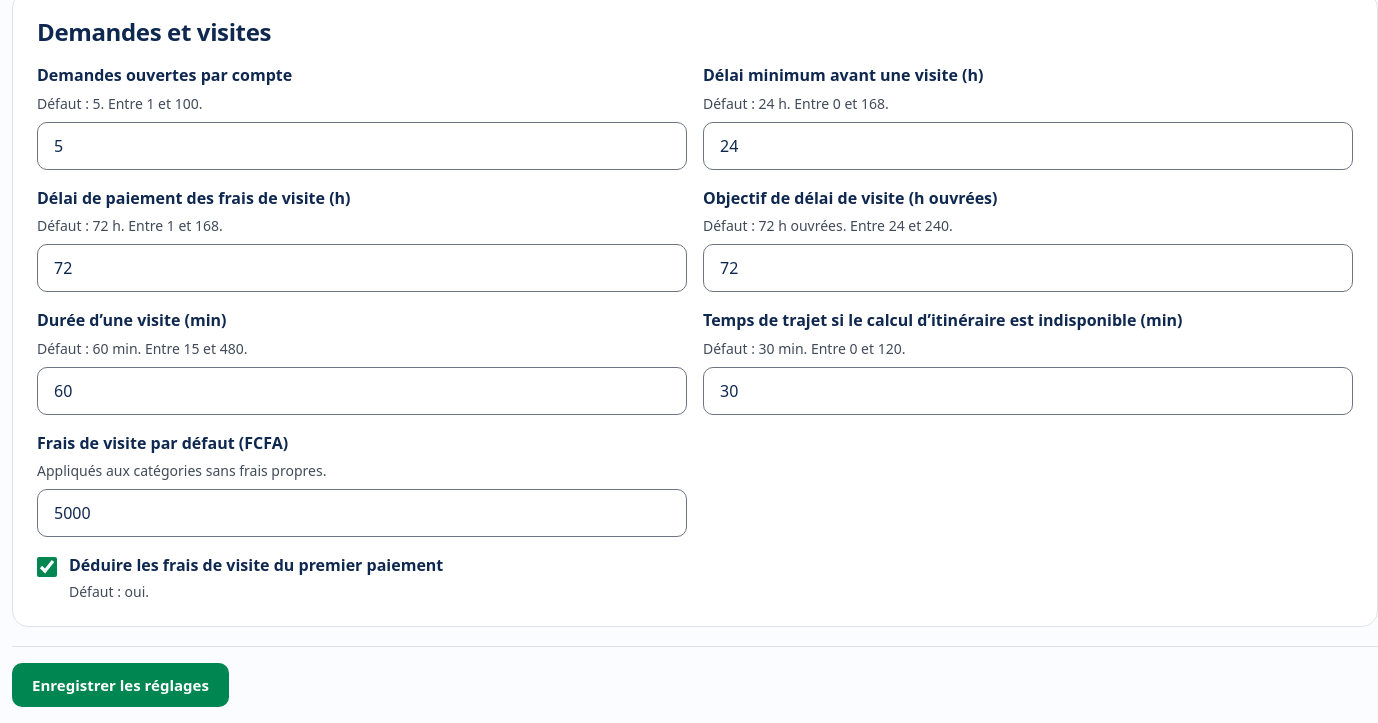
Test case: réglages du module › envoie seulement les réglages modifiés ; refus croisé du serveur affiché
Click the button "Enregistrer les réglages": (120, 685) 12,663 -> 229,707
(page scrolled)
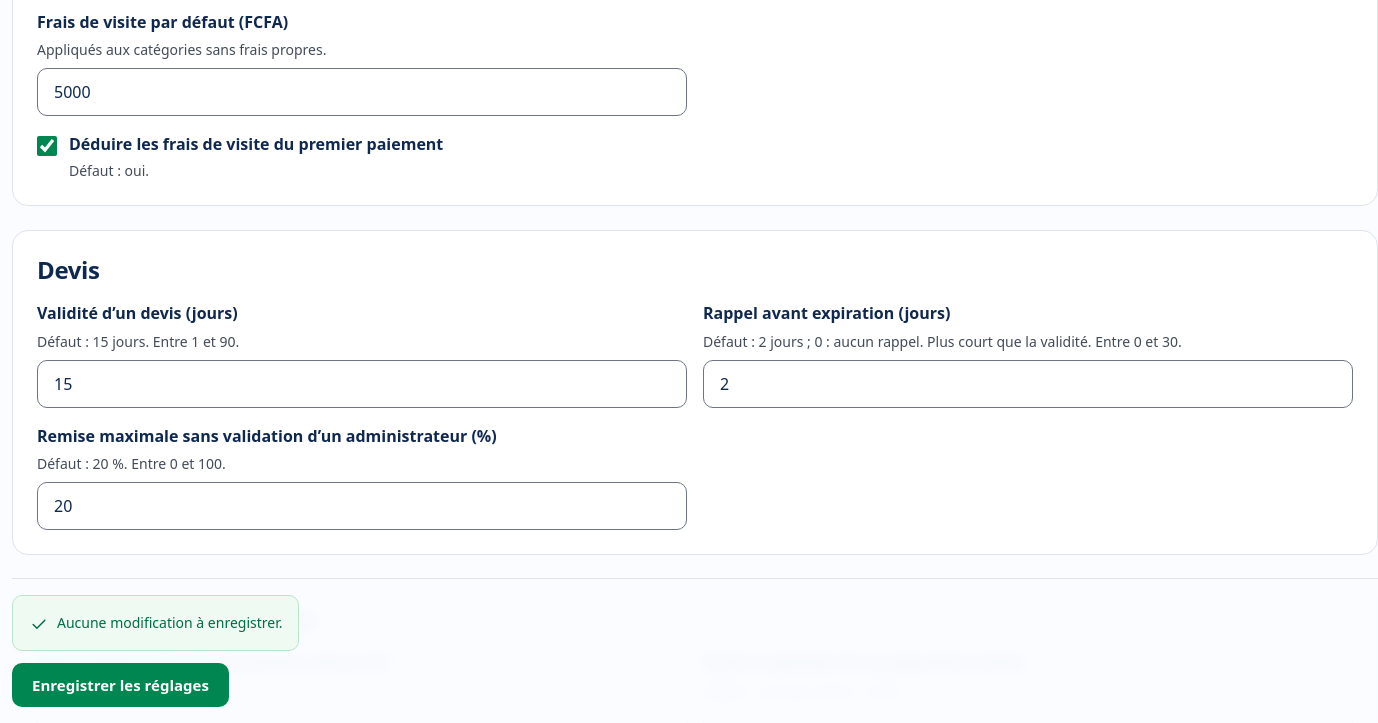
Check: the text "Aucune modification à enregistrer." is shown, box 57,612 -> 282,633
Replace the text in the field labelled "Validité d’un devis (jours)" with "20": (362, 384) 37,360 -> 687,408
(page scrolled)
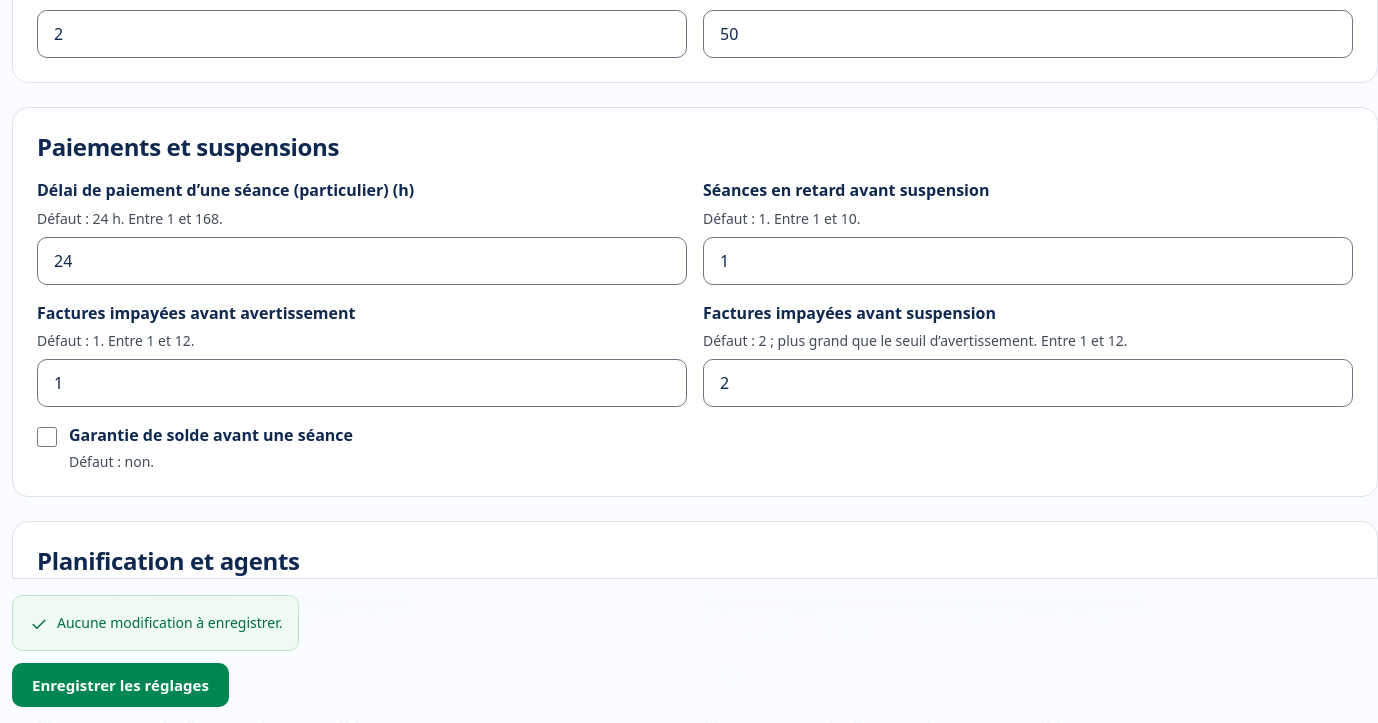
Replace the text in the field labelled "Factures impayées avant suspension" with "1": (1028, 383) 703,359 -> 1353,407
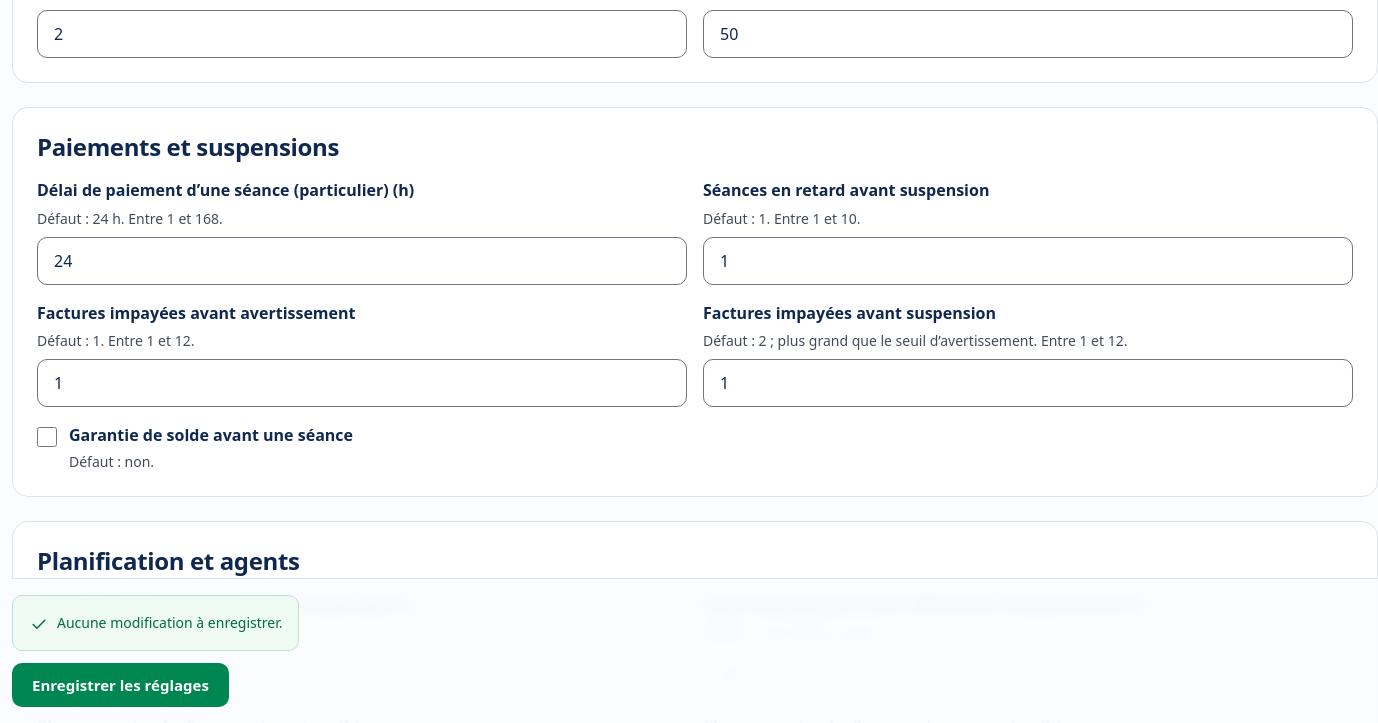
Click the button "Enregistrer les réglages": (120, 685) 12,663 -> 229,707
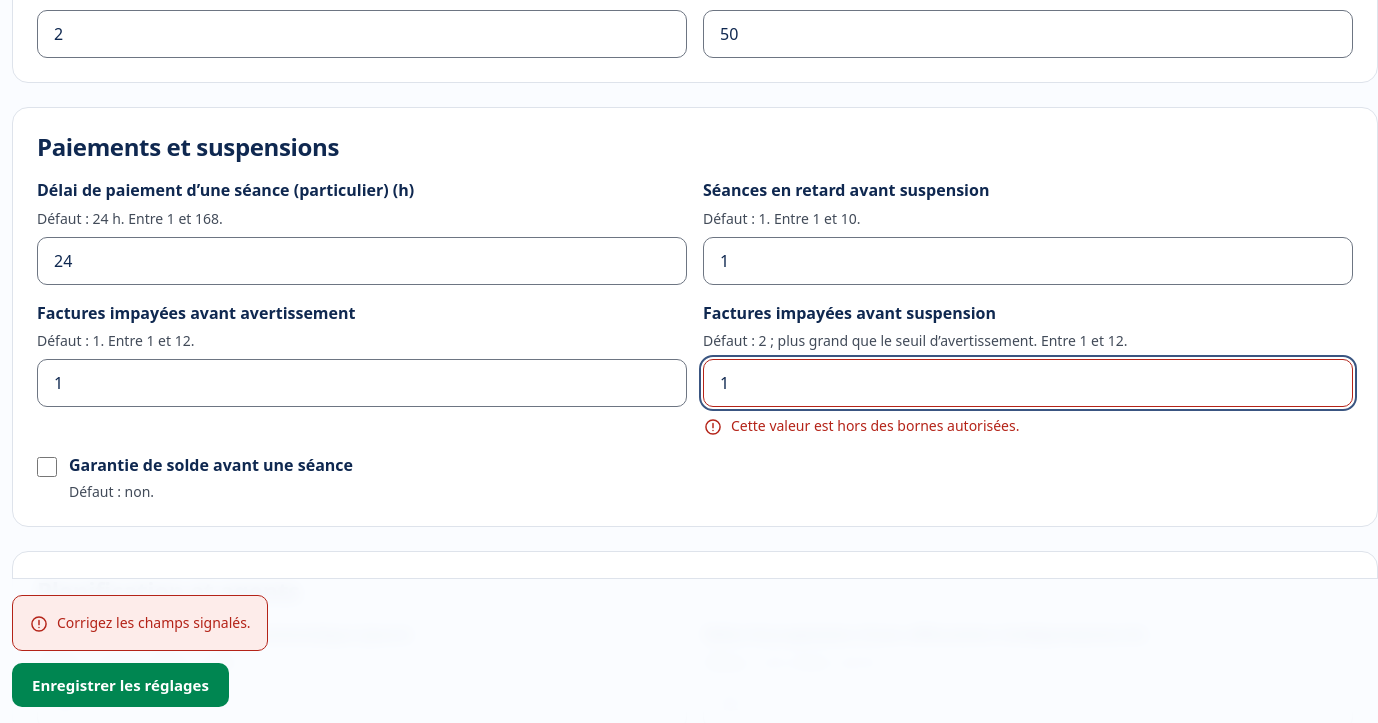
Check: the text "Cette valeur est hors des bornes autorisées." is shown, box 731,415 -> 1020,436
Replace the text in the field labelled "Factures impayées avant suspension" with "3": (1028, 383) 703,359 -> 1353,407
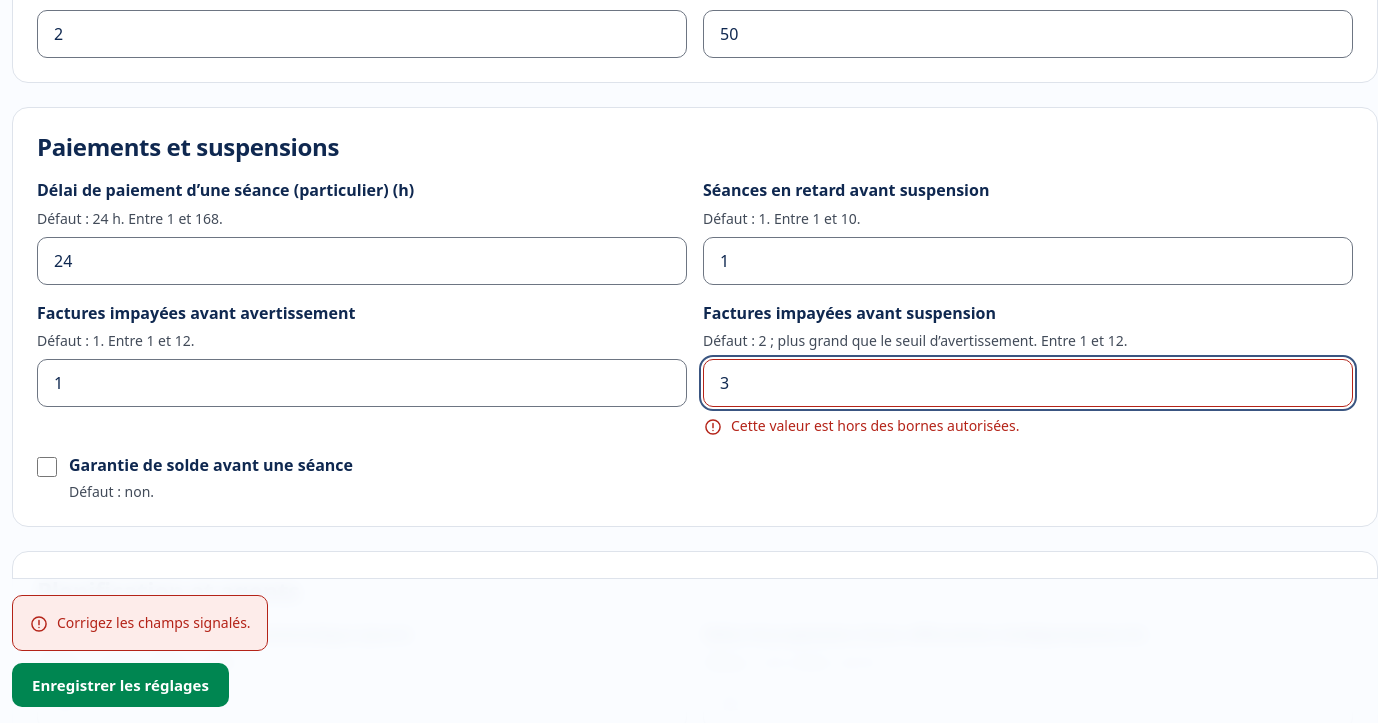
Click the button "Enregistrer les réglages": (120, 685) 12,663 -> 229,707
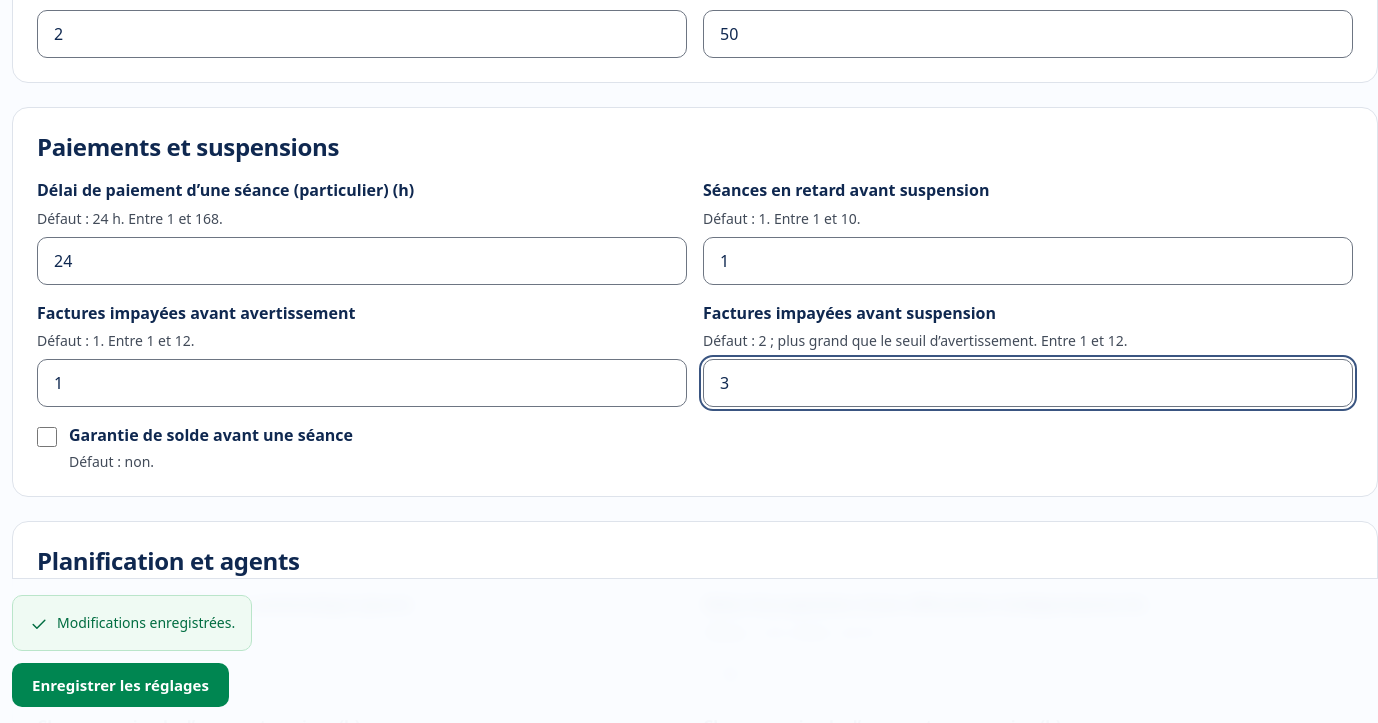
Check: the text "Modifications enregistrées." is shown, box 57,612 -> 235,633
